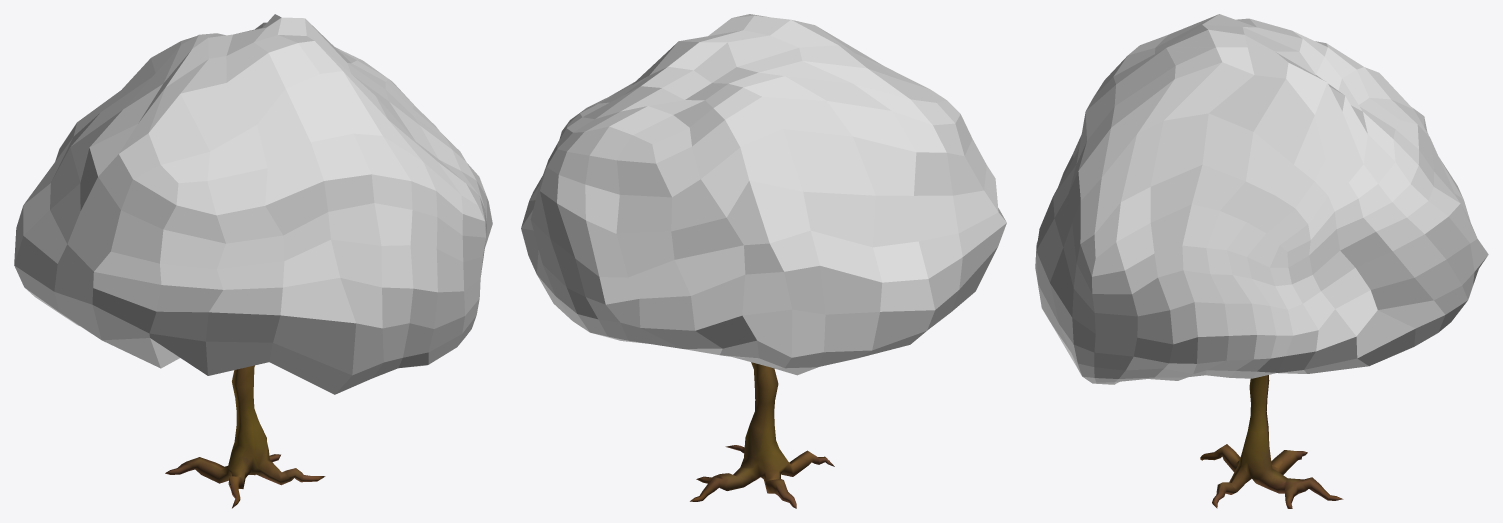
File: Tree2.fbx
The picture shows the model from 3 angles, left to right: view 1: azimuth 30°, elevation 25°; view 2: azimuth 150°, elevation 25°; view 3: azimuth 270°, elevation 25°; orthographic projection. The views are drawn at different scales.
Parts seen in each view (by area): view 1: Leaves.002, TreeTrunk2; view 2: Leaves.002, TreeTrunk2; view 3: Leaves.002, TreeTrunk2.
Boxes of the visible parts, x1,y1,x2,y2 form: Leaves.002: (14, 14, 492, 394); TreeTrunk2: (165, 365, 325, 508); Leaves.002: (521, 14, 1006, 375); TreeTrunk2: (690, 362, 834, 508); Leaves.002: (1035, 14, 1488, 384); TreeTrunk2: (1200, 375, 1343, 508).
Bounding box in the file's own units: 2240 × 2269 × 2044.
Materials: 1 (1 with a texture image).
